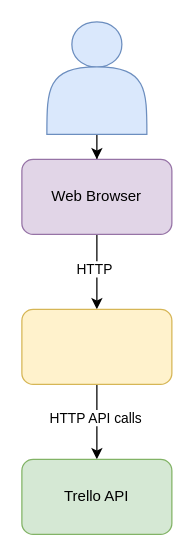
Some shapes in this 194 by 556 pixel diagram are drawn without their labels. The centre of each missing label's shape, as x and y in pixels:
"To-Do Application" goes at (x=96, y=346).
"User" goes at (x=96, y=77).
